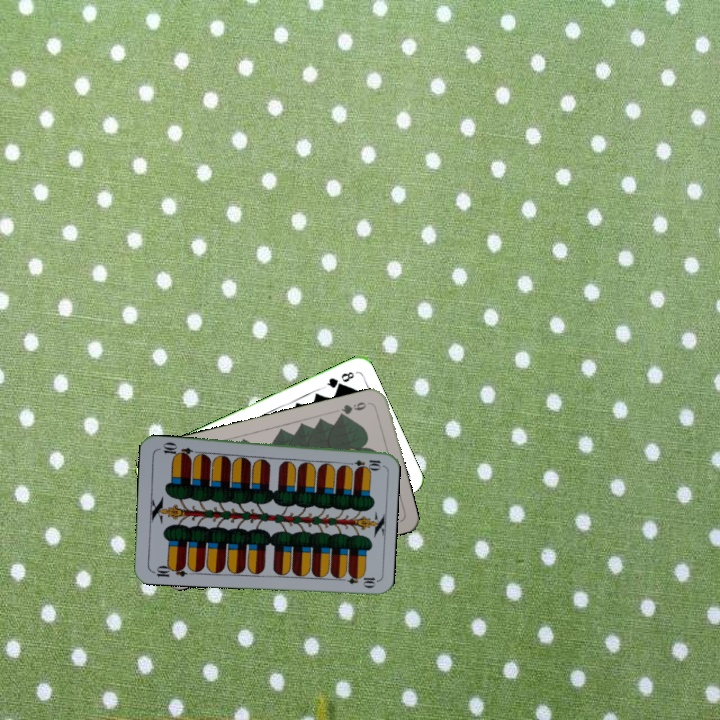E10: (148, 560, 189, 579), (343, 456, 383, 470)
G8: (320, 367, 357, 391)
G9: (334, 398, 373, 420)
